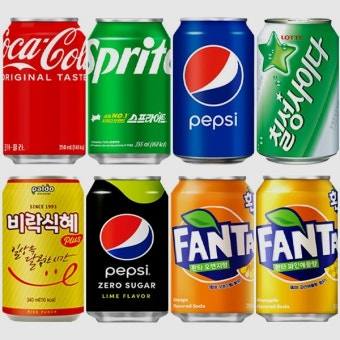paper: (252, 172, 340, 326), (168, 16, 257, 165), (83, 174, 170, 324), (1, 15, 87, 166), (88, 14, 173, 166), (255, 16, 340, 165), (0, 175, 83, 326), (172, 176, 256, 325)
